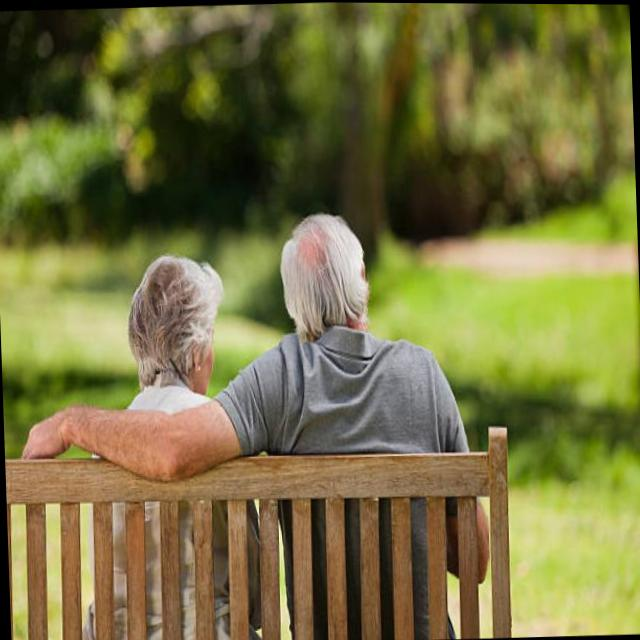no helmet: (248, 205, 396, 366), (126, 244, 226, 405)
